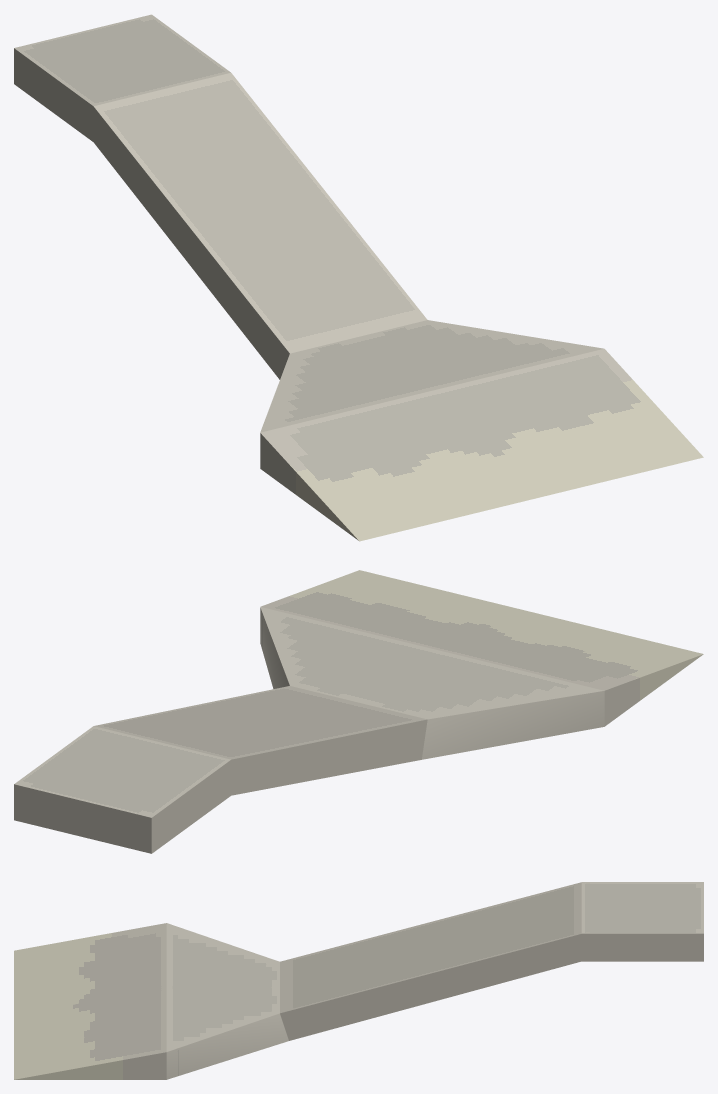
File: 0001_Spatula.glb
3 views of the same model, one above another, from view 1: azimuth 30°, elevation 25°; view 2: azimuth 150°, elevation 25°; view 3: azimuth 270°, elevation 25° (orthographic). The views are drawn at different scales.
Parts seen in each view (by area): view 1: part_0; view 2: part_0; view 3: part_0.
Boxes of the visible parts, x1=… form: part_0: x1=14, y1=14, x2=703, y2=541; part_0: x1=14, y1=570, x2=703, y2=853; part_0: x1=14, y1=882, x2=703, y2=1079.
Size of the model in its own units: 0.1 by 0.0387 by 0.2258.
Materials: 1 (1 with a texture image).
